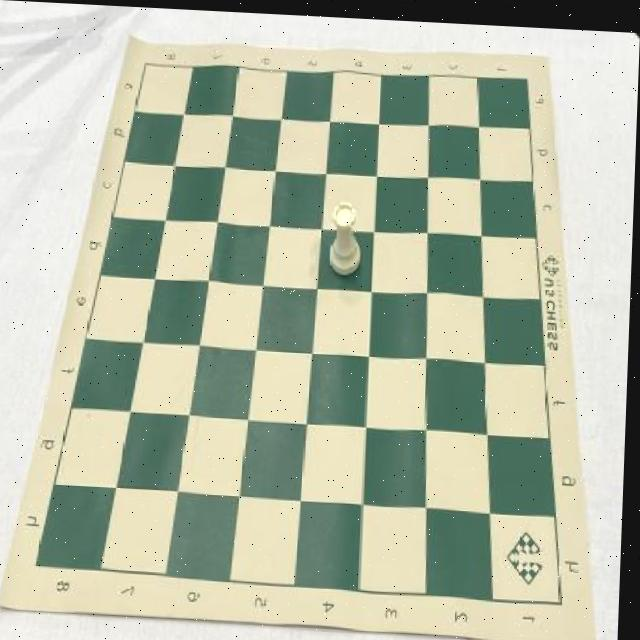white-queen: (330, 199, 365, 274)
